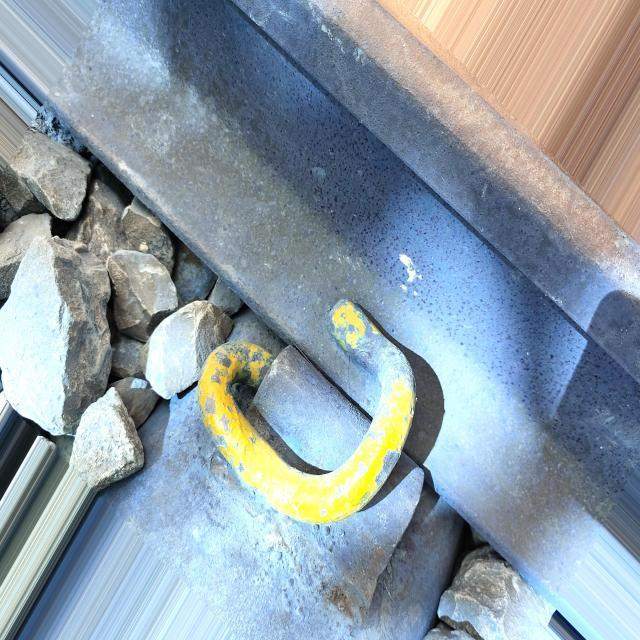Good Fasteners: (184, 294, 444, 629)
